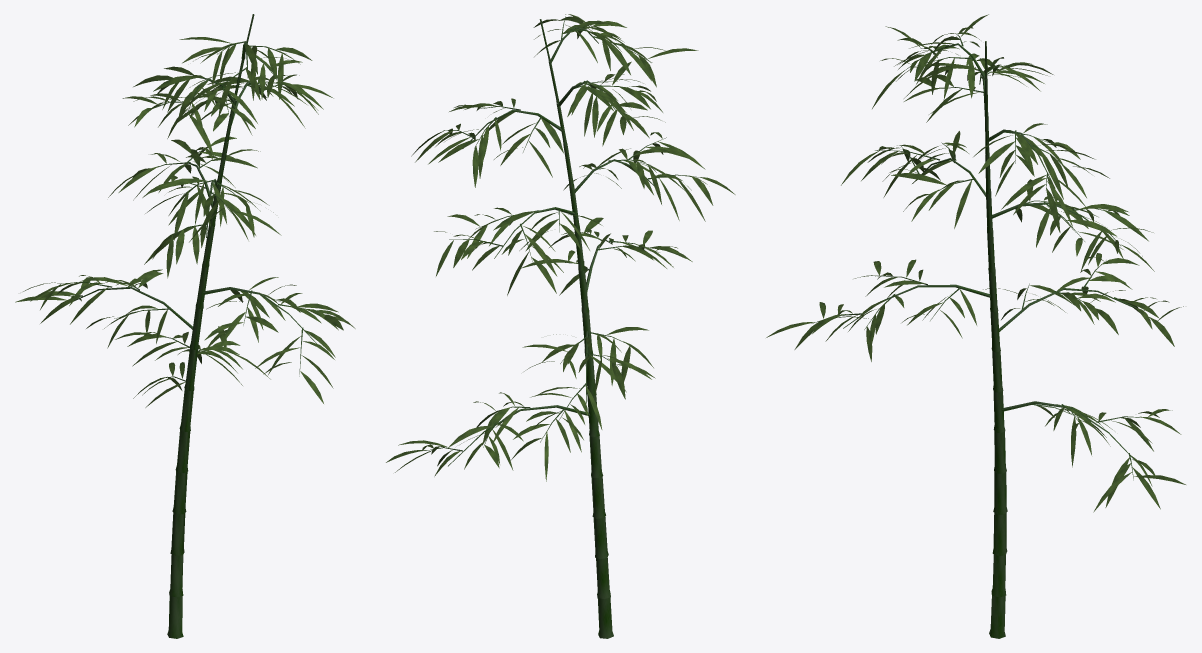
File: bamboo_B_lod0.glb
3 views of the same model, side by side, from view 1: azimuth 30°, elevation 25°; view 2: azimuth 150°, elevation 25°; view 3: azimuth 270°, elevation 25° (orthographic). The views are drawn at different scales.
Visible parts, largest first — view 1: bamboo_B_L0__leaf, bamboo_B_L0__culm; view 2: bamboo_B_L0__leaf, bamboo_B_L0__culm; view 3: bamboo_B_L0__leaf, bamboo_B_L0__culm.
Part boxes in pixels (box(x1,y1,x2,y2)): bamboo_B_L0__leaf: box(15, 37, 355, 407); bamboo_B_L0__culm: box(57, 14, 316, 638); bamboo_B_L0__leaf: box(386, 14, 735, 481); bamboo_B_L0__culm: box(425, 16, 704, 638); bamboo_B_L0__leaf: box(766, 14, 1185, 512); bamboo_B_L0__culm: box(811, 34, 1149, 638).
Size of the model in its own units: 3.26 by 7.13 by 4.33.
2 materials, 2 textured.
